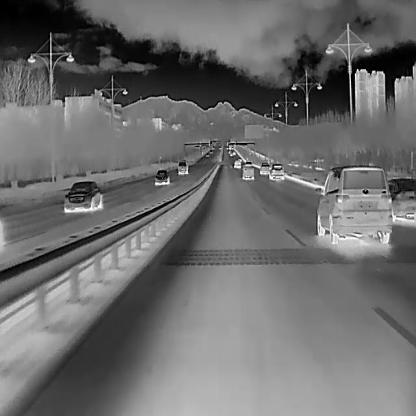car: (313, 164, 392, 244), (62, 180, 103, 213), (388, 176, 415, 223), (153, 168, 170, 186), (268, 164, 284, 181), (241, 165, 254, 179), (177, 159, 188, 175), (259, 162, 270, 174), (244, 159, 253, 167), (234, 159, 241, 168), (205, 152, 209, 157), (229, 153, 233, 157), (209, 149, 212, 154), (237, 157, 241, 160), (232, 151, 235, 155), (228, 151, 232, 154), (218, 145, 221, 149), (212, 146, 214, 149)
